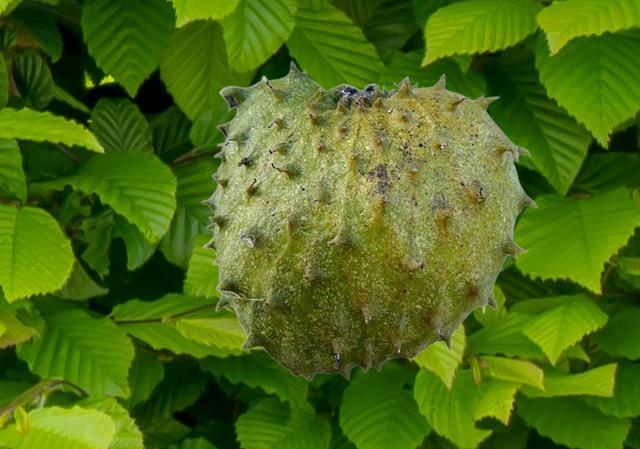guyabano: (200, 59, 537, 380)
